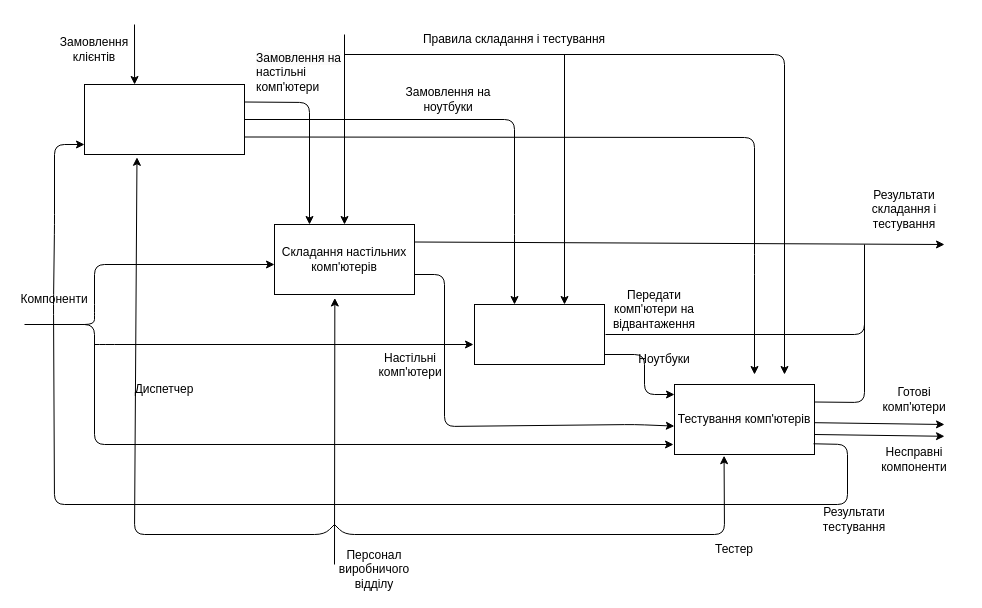
The diagram is 982 pixels wide and 608 high, and some of its shapes have lost their labels. Each missing label, with the centre of its shape:
"Відслідковування розкладу і управління складанням і тестуванням" belongs at (164,119).
"Складання ноутбуків" belongs at (539,334).
